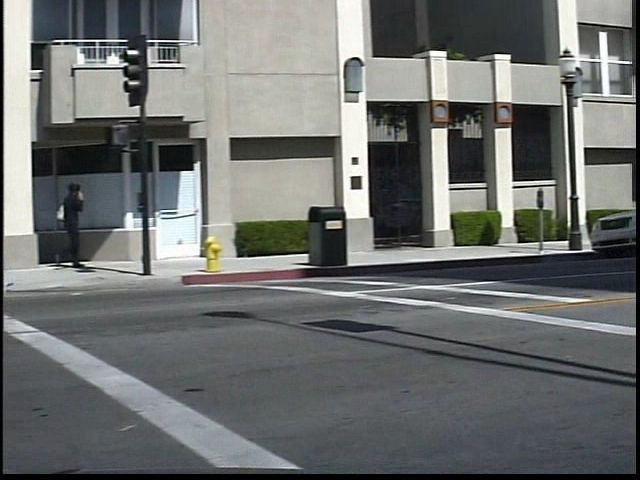person: (60, 175, 107, 272)
